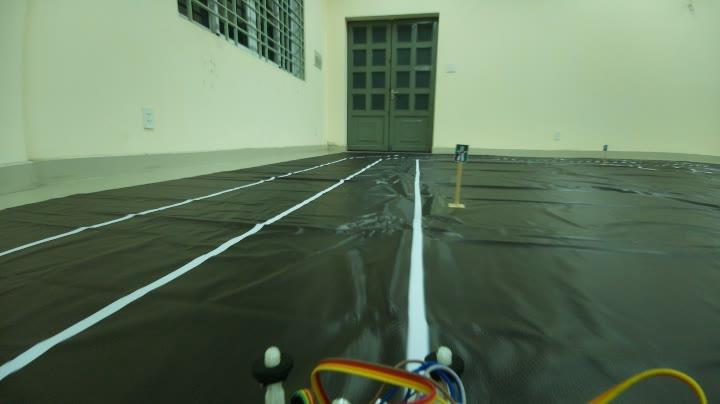highway_exit: (450, 143, 474, 171)
